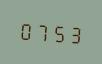five: (50, 20, 65, 44)
seven: (34, 18, 49, 43)
three: (66, 21, 81, 46)
zero: (18, 17, 33, 42)
